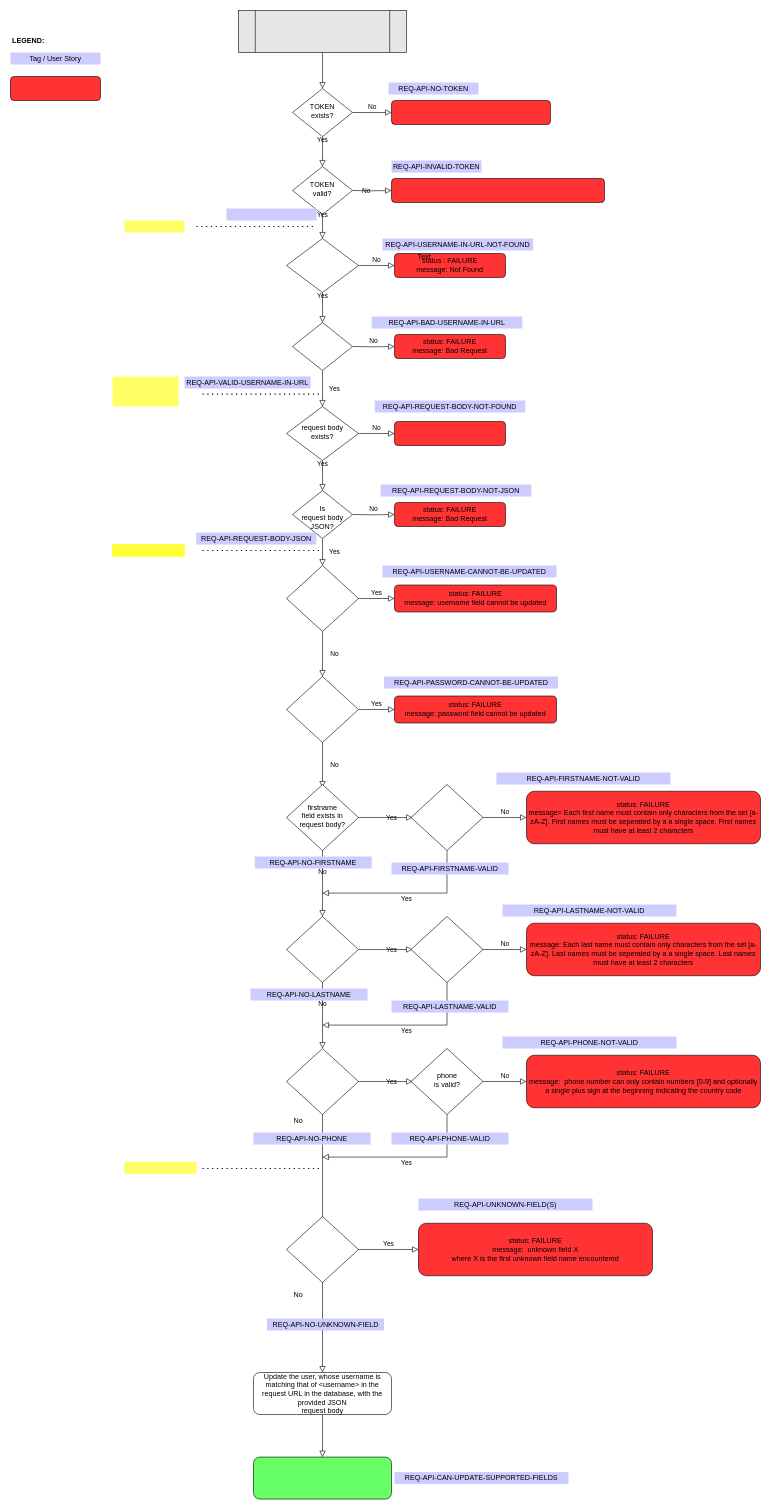
The diagram is 771 pixels wide and 1510 high, and some of its shapes have lost their labels. The shapes that lost their labels are listed below. From the top down, each one's centre as x and y in pixels, then its label:
At point 322,31: "PUT /api/users/{username} request is made by client and received by the server".
At point 55,88: "response message".
At point 470,112: "status : FAILURE message: Token Authentication Required".
At point 497,190: "status: FAILURE message: Invalid Token".
At point 154,226: "User Authenticated".
At point 271,214: "REQ-API-VALID-TOKEN".
At point 322,265: "username in request URL?".
At point 322,346: "username in URL valid?".
At point 145,391: "resource in SUT identified".
At point 450,433: "status: FAILURE message : Bad Request".
At point 148,550: "request body is JSON".
At point 322,598: "username field exists in request body?".
At point 322,709: "password field exists in request body?".
At point 446,817: "firstname is valid?".
At point 322,949: "lastname field exists in request body?".
At point 446,949: "lastname is valid?".
At point 322,1081: "phone field exists in request body?".
At point 160,1168: "JSON request body contains valid fields".
At point 322,1249: "any other unknown field(s) exists in request body?".
At point 322,1477: "status: SUCCESS message: Updated".
